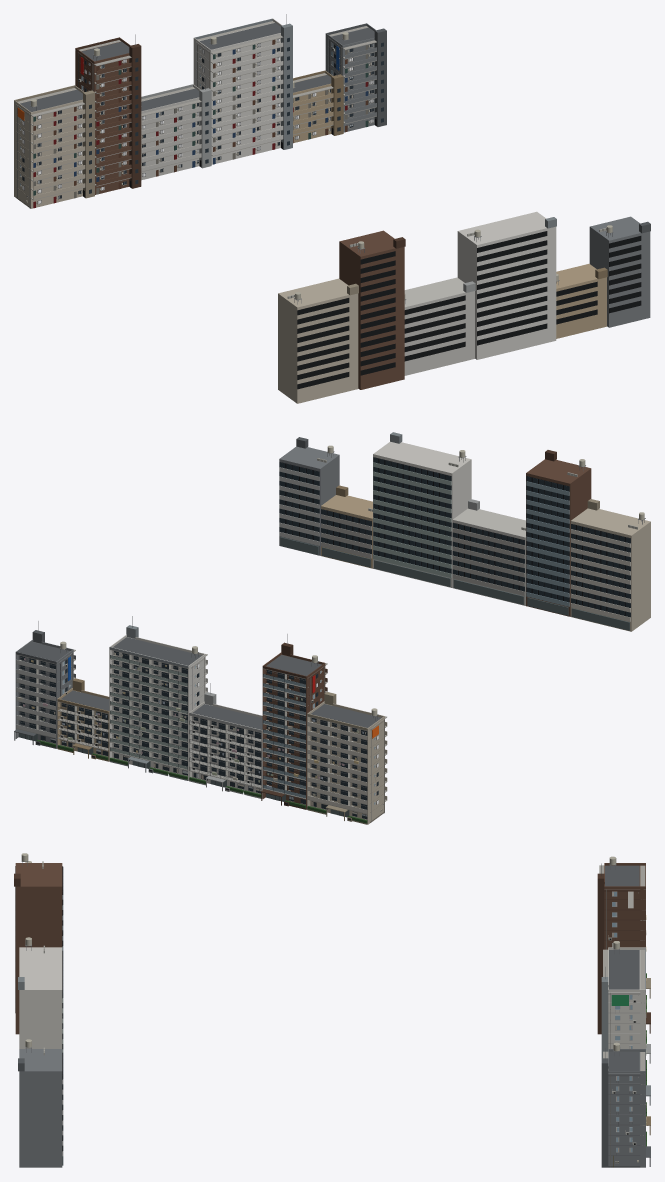
The model's file is manshon.glb.
The picture shows the model from 3 angles, top to bottom: view 1: azimuth 30°, elevation 25°; view 2: azimuth 150°, elevation 25°; view 3: azimuth 270°, elevation 25°; orthographic projection. The views are drawn at different scales.
Visible parts, largest first — view 1: manshon_d_lo_mesh, manshon_d_body, manshon_a_lo_mesh, manshon_a_body, manshon_b_lo_mesh, manshon_b_body, manshon_c_lo_mesh, manshon_c_body, manshon_f_lo_mesh, manshon_f_body, manshon_e_lo_mesh, manshon_e_body; view 2: manshon_d_lo_mesh, manshon_d_body, manshon_a_lo_mesh, manshon_a_body, manshon_b_lo_mesh, manshon_b_body, manshon_c_lo_mesh, manshon_c_body, manshon_f_lo_mesh, manshon_f_body, manshon_e_lo_mesh, manshon_e_body; view 3: manshon_f_body, manshon_f_lo_mesh, manshon_b_body, manshon_d_lo_mesh, manshon_b_lo_mesh, manshon_d_body.
Part boxes in pixels (x1,y1,x2,y2): manshon_d_lo_mesh: [457, 211, 556, 359]; manshon_d_body: [193, 14, 292, 164]; manshon_a_lo_mesh: [278, 278, 358, 403]; manshon_a_body: [14, 85, 94, 208]; manshon_b_lo_mesh: [339, 230, 405, 389]; manshon_b_body: [75, 34, 141, 194]; manshon_c_lo_mesh: [404, 277, 475, 375]; manshon_c_body: [141, 79, 211, 180]; manshon_f_lo_mesh: [589, 216, 650, 327]; manshon_f_body: [325, 23, 386, 132]; manshon_e_lo_mesh: [556, 264, 607, 338]; manshon_e_body: [293, 65, 343, 143]; manshon_d_lo_mesh: [373, 432, 471, 587]; manshon_d_body: [109, 616, 207, 780]; manshon_a_lo_mesh: [570, 499, 650, 631]; manshon_a_body: [307, 692, 387, 824]; manshon_b_lo_mesh: [526, 450, 591, 616]; manshon_b_body: [261, 634, 327, 809]; manshon_c_lo_mesh: [452, 499, 525, 605]; manshon_c_body: [189, 683, 262, 798]; manshon_f_lo_mesh: [279, 437, 339, 555]; manshon_f_body: [14, 621, 75, 748]; manshon_e_lo_mesh: [321, 485, 372, 568]; manshon_e_body: [57, 678, 109, 761]; manshon_f_body: [601, 1042, 650, 1167]; manshon_f_lo_mesh: [18, 1039, 63, 1167]; manshon_b_body: [597, 856, 650, 1034]; manshon_d_lo_mesh: [18, 937, 63, 1052]; manshon_b_lo_mesh: [14, 853, 63, 1034]; manshon_d_body: [601, 941, 650, 1113].
Size of the model in its own units: 117 by 47.7 by 164.
